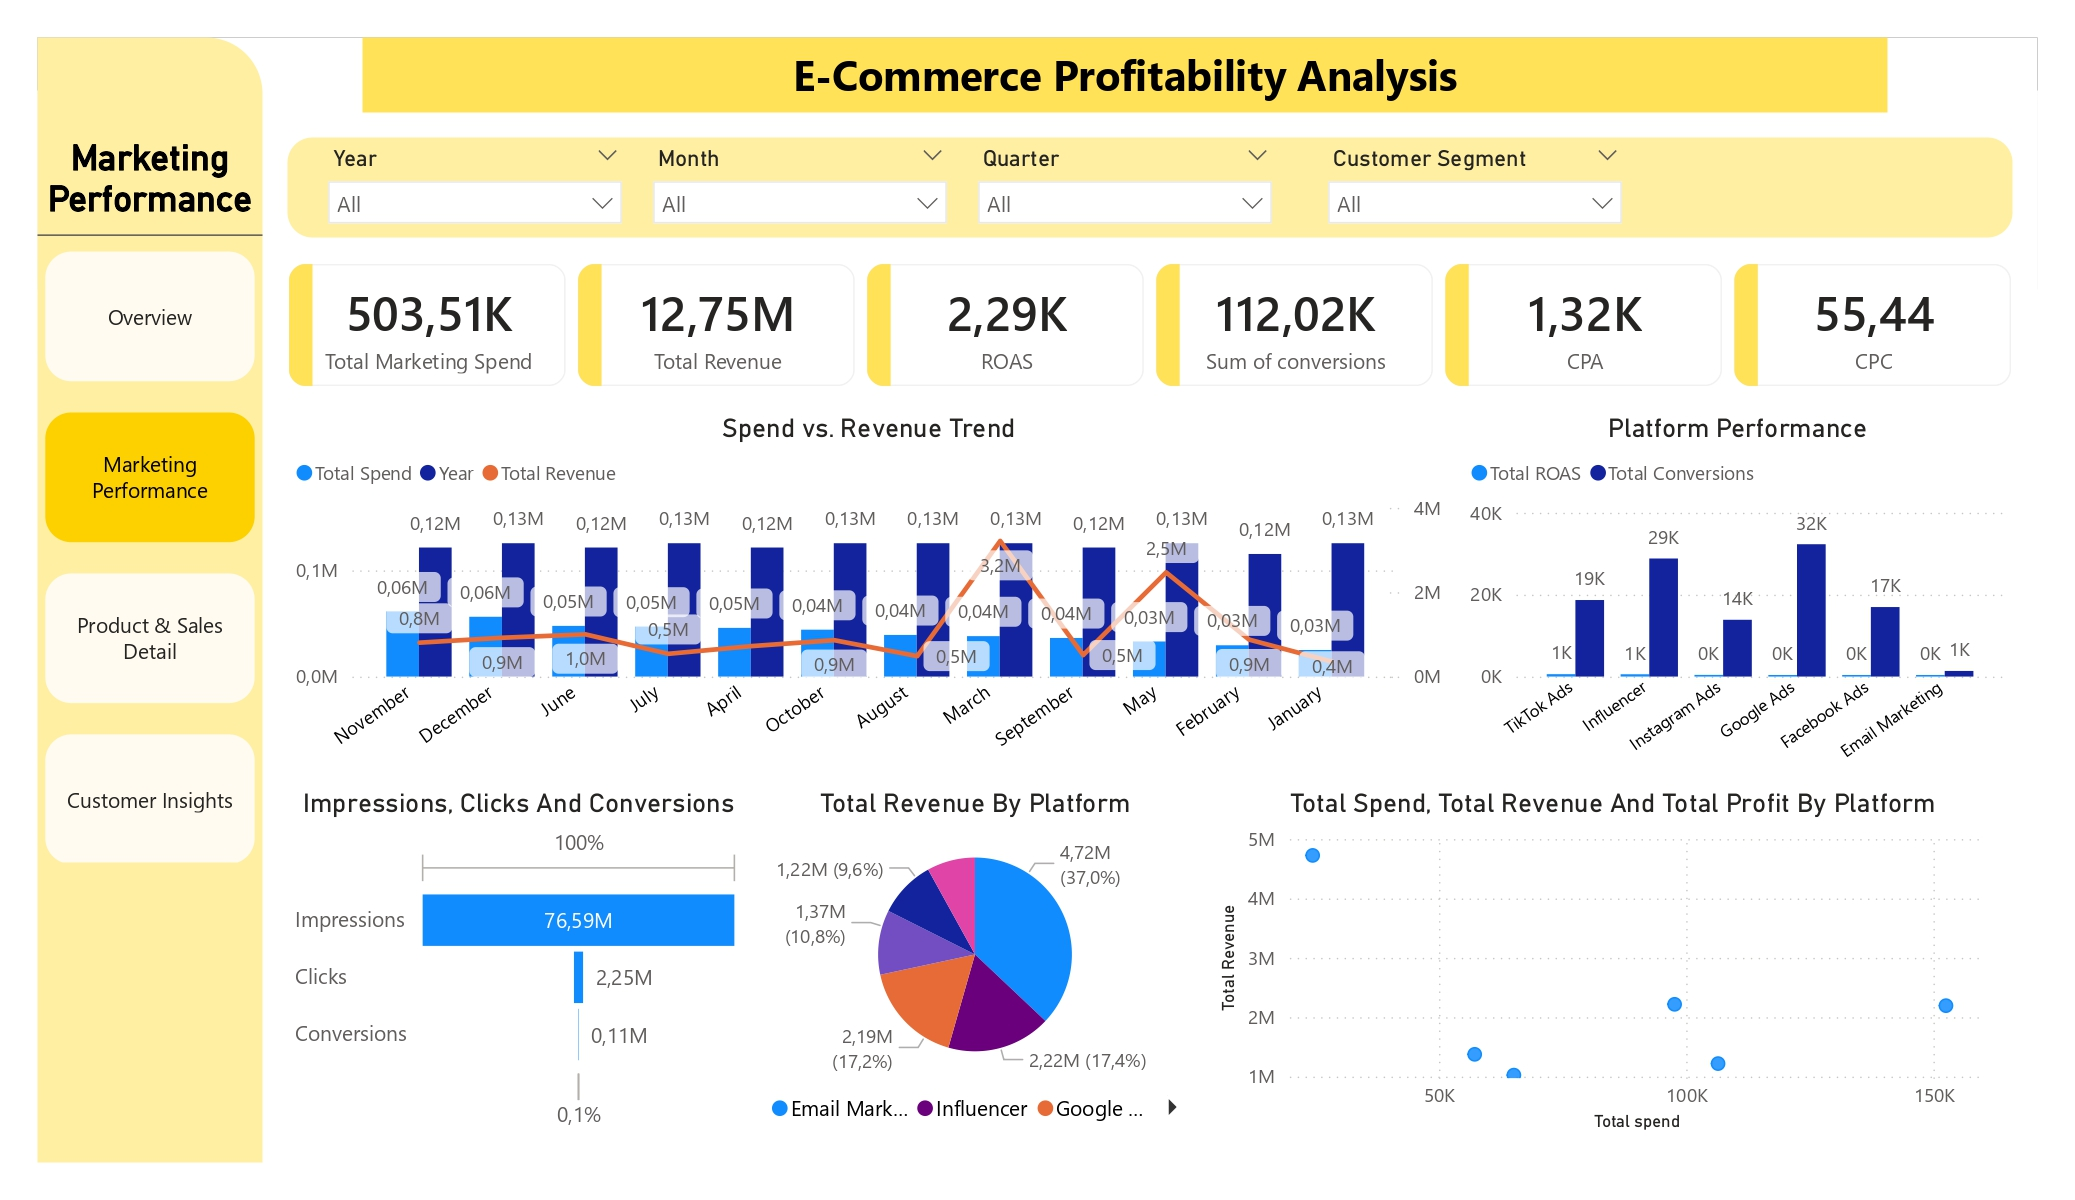

What the dashboard file says about the page in this screenshot:
{"tool":"powerbi","page":{"name":"Marketing Performance","canvas":[1280,720],"ordinal":1},"visuals":[{"type":"textbox","box":[208,0,976,48],"z":0},{"type":"shape","box":[0,0,144,720],"z":1000},{"type":"shape","box":[160,64,1104,64],"z":2000},{"type":"cardVisual","fields":{"Data":["Sum(fact_marketing.spend)","Sum(fact_marketing.revenue_attributed)","Sum(fact_marketing.roas)","Sum(fact_marketing.conversions)","Sum(fact_marketing.cpa)","Sum(fact_marketing.cpc)"]},"box":[144,128,1136,112],"z":3000},{"type":"lineClusteredColumnComboChart","title":"Spend vs. Revenue Trend","fields":{"Y":["Sum(fact_marketing.spend)","Sum(Calendar.Year)"],"Y2":["Sum(fact_marketing.revenue_attributed)"],"Category":["Calendar.Month"]},"box":[160,240,744,232],"z":4000},{"type":"clusteredColumnChart","title":"Platform Performance","fields":{"Category":["fact_marketing.platform"],"Y":["Sum(fact_marketing.roas)","Sum(fact_marketing.conversions)"]},"box":[912,240,352,232],"z":5000},{"type":"scatterChart","title":"Total Spend, Total Revenue And Total Profit By Platform","fields":{"Category":["fact_marketing.platform"],"X":["Sum(fact_marketing.spend)"],"Y":["Sum(fact_marketing.revenue_attributed)"]},"box":[752,480,512,224],"z":6000},{"type":"funnel","title":"Impressions, Clicks And Conversions","fields":{"Y":["Sum(fact_marketing.impressions)","Sum(fact_marketing.clicks)","Sum(fact_marketing.conversions)"]},"box":[160,480,296,224],"z":7000},{"type":"pieChart","title":"Total Revenue By Platform","fields":{"Category":["fact_marketing.platform"],"Y":["Sum(fact_marketing.revenue_attributed)"]},"box":[464,480,272,224],"z":8000},{"type":"slicer","fields":{"Values":["Calendar.Date.Variation.Date Hierarchy.Year"]},"box":[176,64,208,80],"z":9000},{"type":"slicer","fields":{"Values":["dim_customer.Customer Segment"]},"box":[816,64,208,80],"z":10000},{"type":"slicer","fields":{"Values":["Calendar.Date.Variation.Date Hierarchy.Month"]},"box":[384,64,208,80],"z":11000},{"type":"pageNavigator","title":"Marketing Performance","box":[0,64,144,464],"z":12000},{"type":"slicer","fields":{"Values":["Calendar.Date.Variation.Date Hierarchy.Quarter"]},"box":[592,64,208,80],"z":12001}]}

Visuals, with their boxes on the page's 1280x720 design canvas (x1, y1, x2, y2). These are canvas units, not pixel positions in the 2075x1200 screenshot, which may show the page scaled, cropped or inside an application window:
textbox: l=208, t=0, r=1184, b=48
shape: l=0, t=0, r=144, b=720
shape: l=160, t=64, r=1264, b=128
cardVisual - Sum(fact_marketing.spend) x Sum(fact_marketing.revenue_attributed): l=144, t=128, r=1280, b=240
"Spend vs. Revenue Trend" lineClusteredColumnComboChart: l=160, t=240, r=904, b=472
"Platform Performance" clusteredColumnChart: l=912, t=240, r=1264, b=472
"Total Spend, Total Revenue And Total Profit By Platform" scatterChart: l=752, t=480, r=1264, b=704
"Impressions, Clicks And Conversions" funnel: l=160, t=480, r=456, b=704
"Total Revenue By Platform" pieChart: l=464, t=480, r=736, b=704
slicer - Calendar.Date.Variation.Date Hierarchy.Year: l=176, t=64, r=384, b=144
slicer - dim_customer.Customer Segment: l=816, t=64, r=1024, b=144
slicer - Calendar.Date.Variation.Date Hierarchy.Month: l=384, t=64, r=592, b=144
"Marketing Performance" pageNavigator: l=0, t=64, r=144, b=528
slicer - Calendar.Date.Variation.Date Hierarchy.Quarter: l=592, t=64, r=800, b=144
